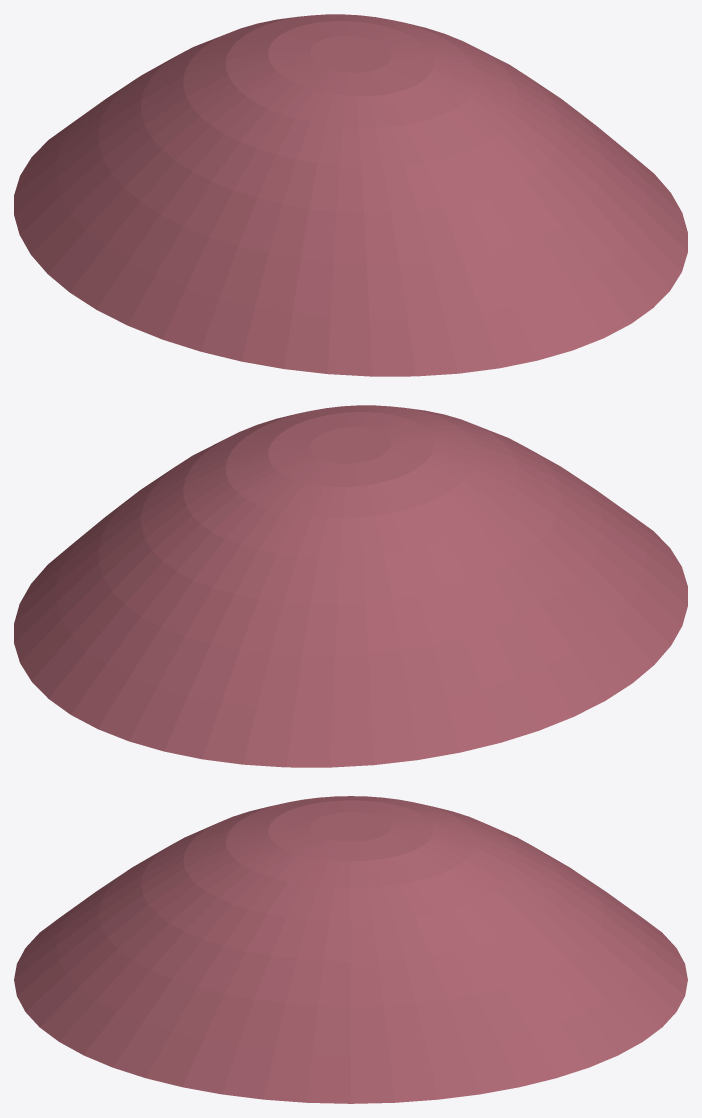
The model's file is gingival_cover_33.glb.
The picture shows the model from 3 angles, top to bottom: view 1: azimuth 30°, elevation 25°; view 2: azimuth 150°, elevation 25°; view 3: azimuth 270°, elevation 25°; orthographic projection. The views are drawn at different scales.
Parts seen in each view (by area): view 1: Cover_33; view 2: Cover_33; view 3: Cover_33.
Boxes of the visible parts, <box> form: Cover_33: <box>14,14,687,376</box>; Cover_33: <box>14,405,687,767</box>; Cover_33: <box>14,796,687,1103</box>.
Bounding box in the file's own units: 6.94 × 2 × 7.98.
